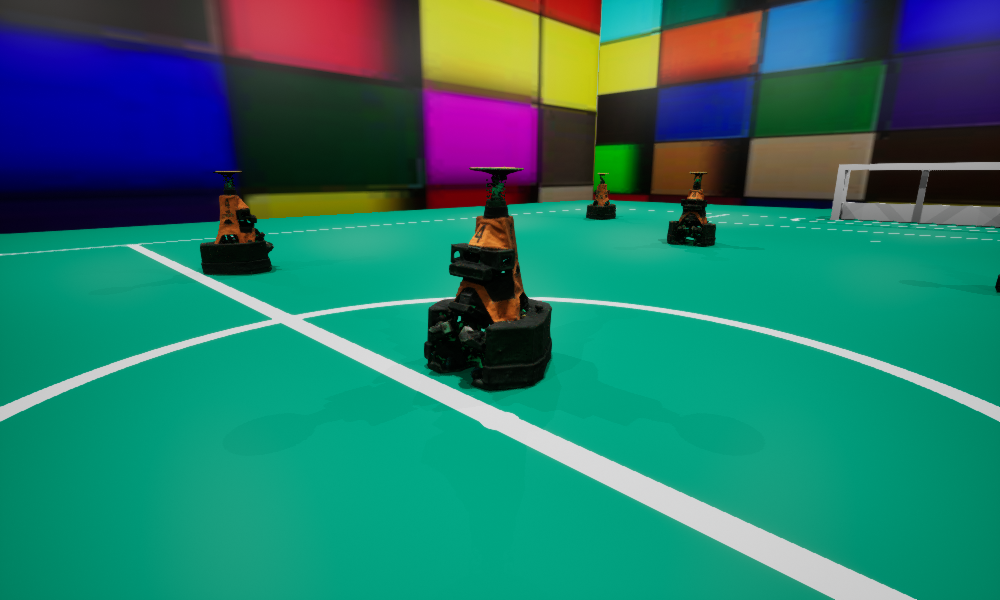o: (424, 166, 551, 389), (200, 171, 273, 274), (667, 172, 715, 245), (586, 173, 615, 219), (995, 274, 999, 292)
